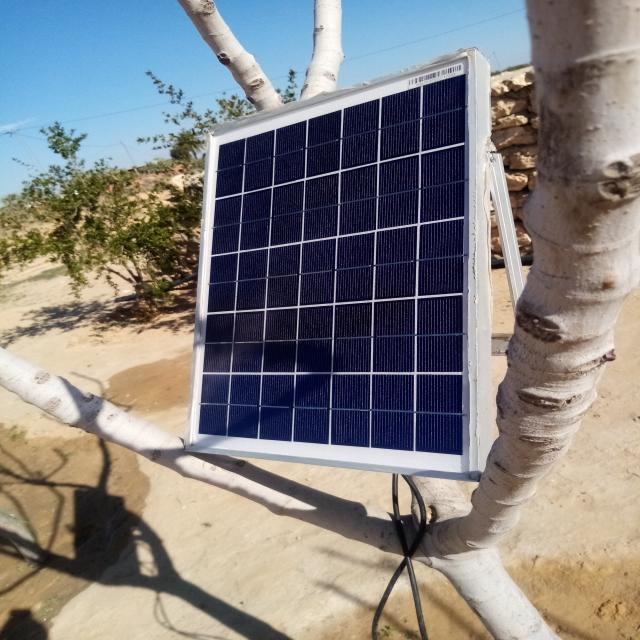no faulty: (187, 51, 476, 478)
